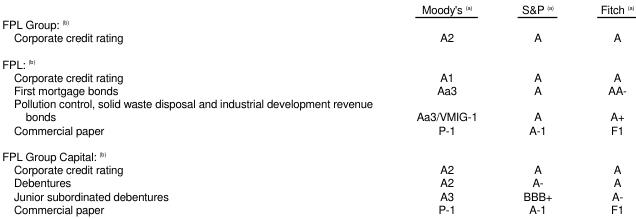table: (1, 1, 633, 216)
table column: (1, 1, 393, 216), (393, 1, 498, 216), (498, 1, 576, 216), (576, 1, 633, 216)
table column header: (1, 1, 633, 16)
table projected row header: (1, 49, 633, 69), (1, 142, 633, 162), (1, 16, 633, 30)
table row: (1, 96, 633, 122), (1, 49, 633, 69), (1, 122, 633, 142), (1, 142, 633, 162), (1, 30, 633, 49), (1, 1, 633, 16), (1, 201, 633, 216), (1, 16, 633, 30), (1, 69, 633, 83), (1, 83, 633, 96), (1, 162, 633, 175), (1, 175, 633, 188), (1, 188, 633, 201)
